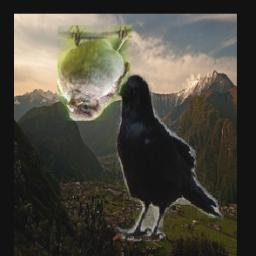Crow: (111, 73, 224, 242)
Sparrow: (57, 26, 131, 122)
